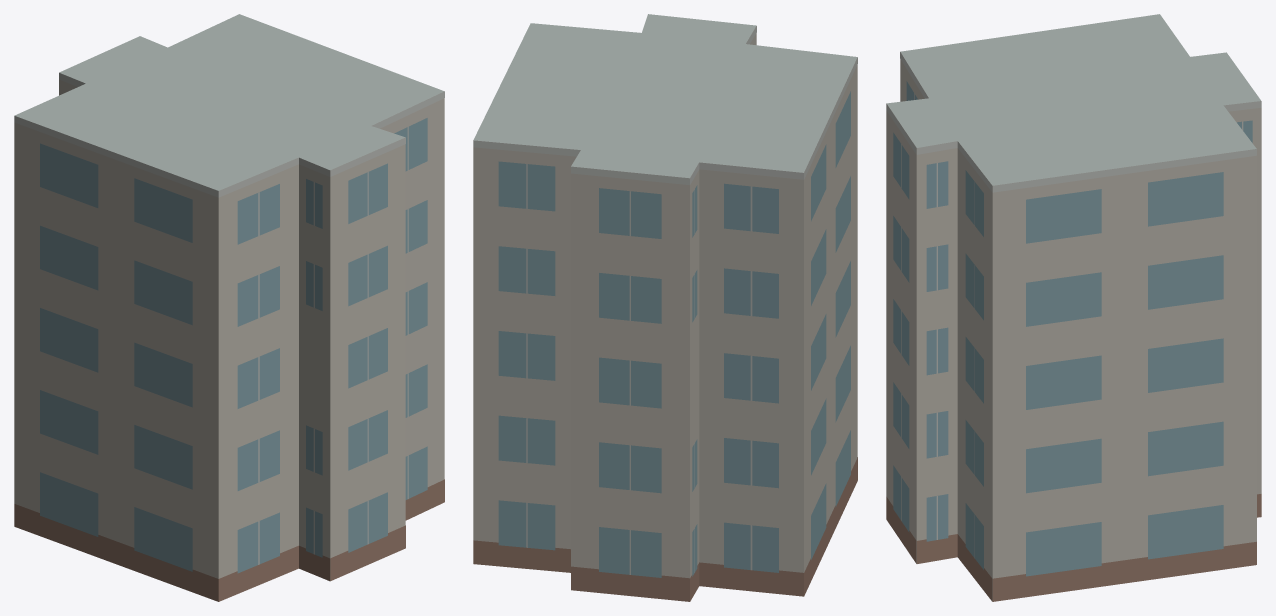
File: survey-upis-33016009.glb
The picture shows the model from 3 angles, left to right: view 1: azimuth 30°, elevation 25°; view 2: azimuth 150°, elevation 25°; view 3: azimuth 270°, elevation 25°; orthographic projection. The views are drawn at different scales.
Visible parts, largest first — view 1: survey-upis-33016009.tmp; view 2: survey-upis-33016009.tmp; view 3: survey-upis-33016009.tmp.
Boxes of the visible parts, box(x1,y1,x2,y2) form: survey-upis-33016009.tmp: box(14, 14, 444, 601); survey-upis-33016009.tmp: box(473, 14, 857, 601); survey-upis-33016009.tmp: box(886, 14, 1261, 601).
Bounding box in the file's own units: 13.16 × 14.85 × 12.14.
